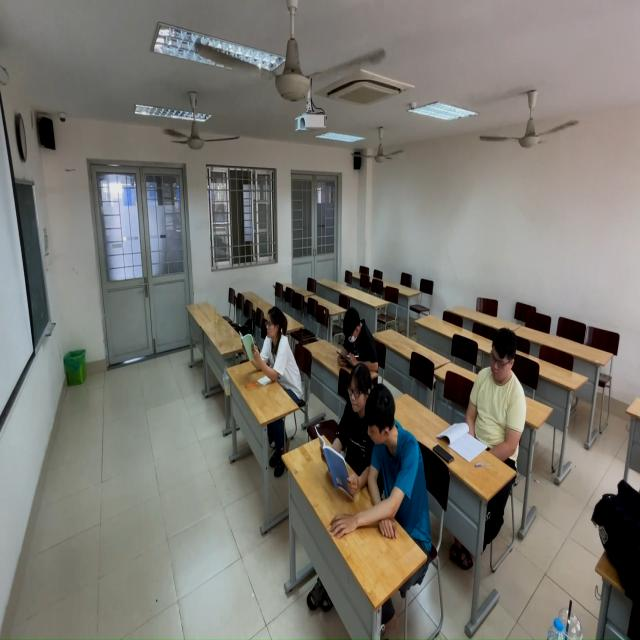read: (444, 315, 528, 472), (359, 370, 427, 554), (242, 297, 316, 404), (319, 355, 375, 489), (336, 306, 378, 368)
